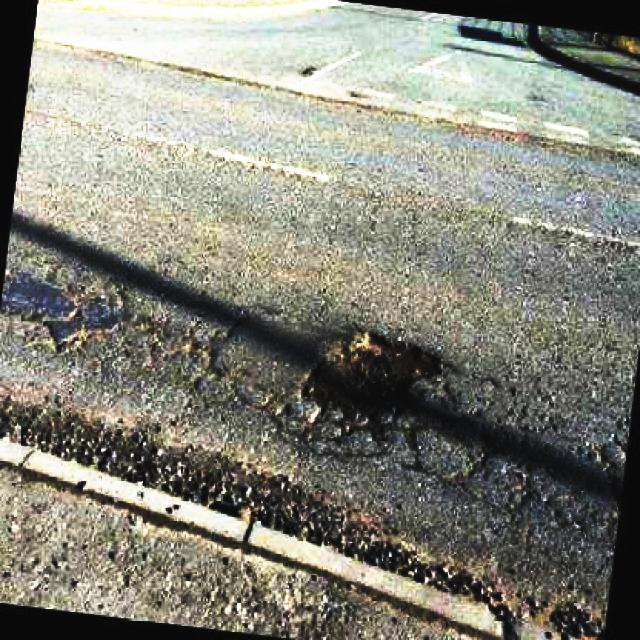pothole: (298, 329, 442, 440)
